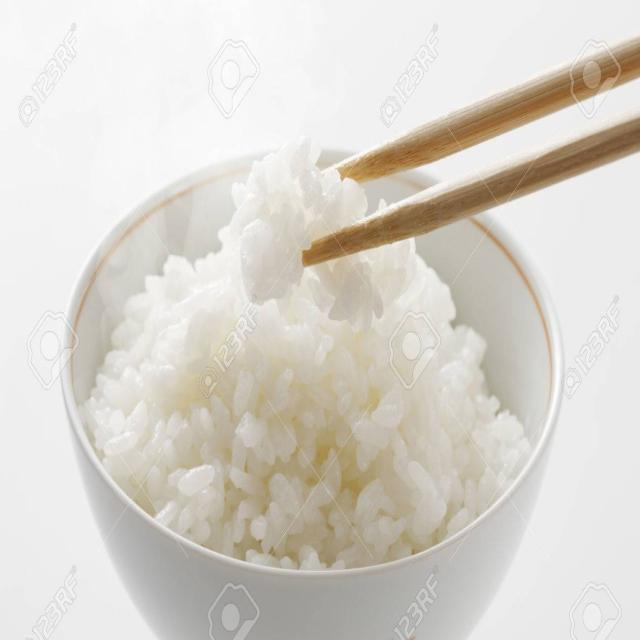arroz: (72, 143, 553, 569)
